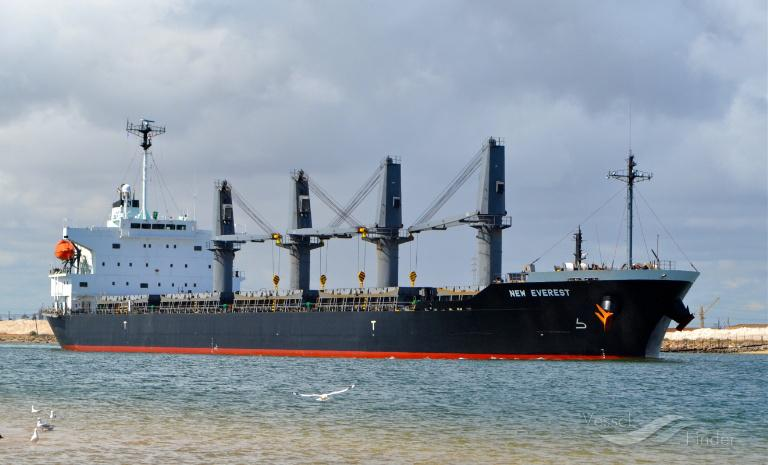OCR: (503, 284, 578, 304)
